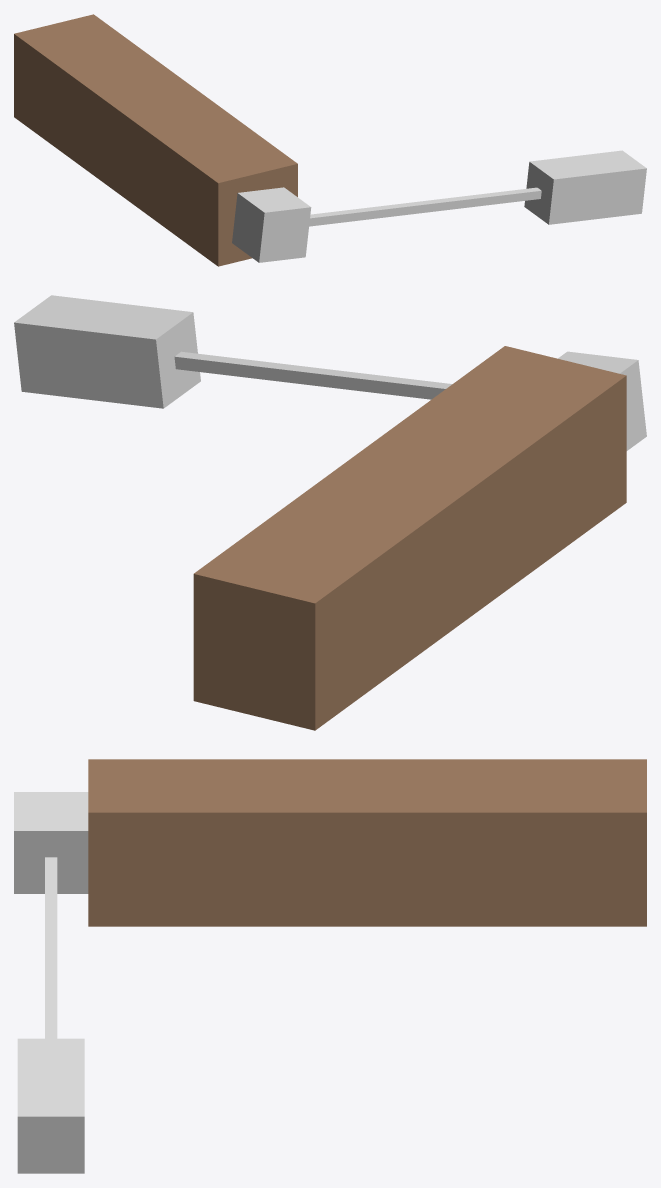
The model's file is Lever.fbx.
3 views of the same model, one above another, from view 1: azimuth 30°, elevation 25°; view 2: azimuth 150°, elevation 25°; view 3: azimuth 270°, elevation 25° (orthographic). The views are drawn at different scales.
Visible parts, largest first — view 1: polySurface2, polySurface1; view 2: polySurface2, polySurface1; view 3: polySurface2, polySurface1.
Boxes of the visible parts, x1,y1,x2,y2 form: polySurface2: (14, 14, 297, 266); polySurface1: (232, 150, 646, 262); polySurface2: (193, 346, 626, 730); polySurface1: (14, 295, 646, 450); polySurface2: (88, 759, 646, 926); polySurface1: (14, 792, 88, 1173).
Bounding box in the file's own units: 16.88 × 4.35 × 16.78.
